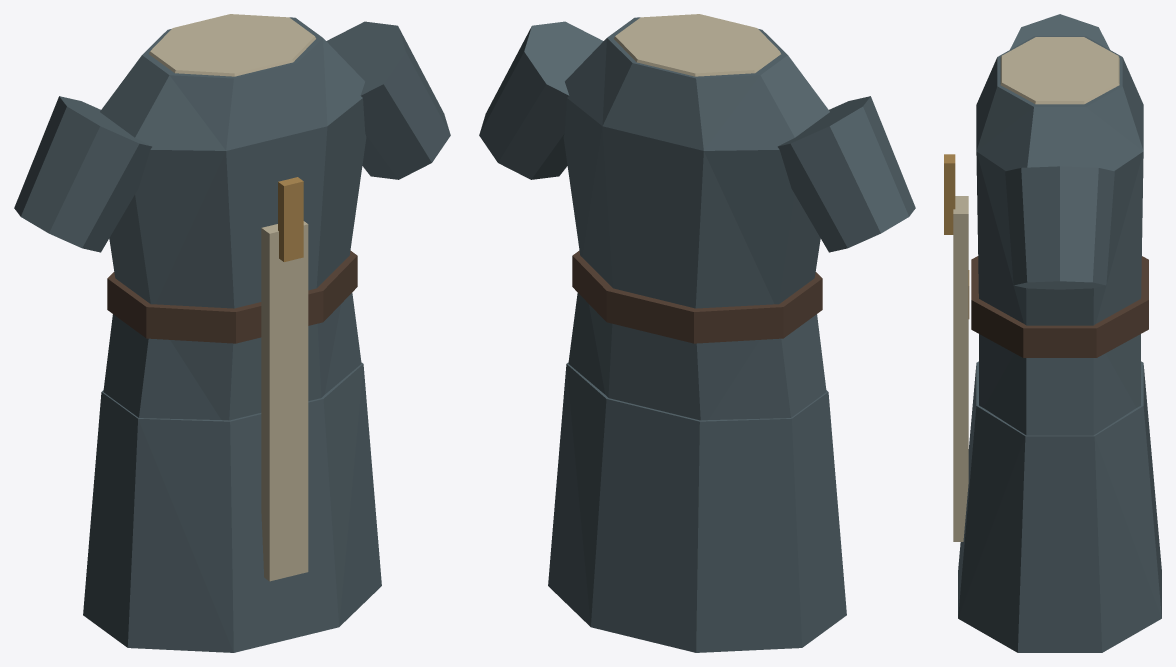
File: NPC_Torso_03_Robe.glb
The picture shows the model from 3 angles, left to right: view 1: azimuth 30°, elevation 25°; view 2: azimuth 150°, elevation 25°; view 3: azimuth 270°, elevation 25°; orthographic projection. The views are drawn at different scales.
Visible parts, largest first — view 1: NPC_Torso_03_Robe; view 2: NPC_Torso_03_Robe; view 3: NPC_Torso_03_Robe.
Part boxes in pixels (box(x1,y1,x2,y2)): NPC_Torso_03_Robe: box(14, 14, 450, 652); NPC_Torso_03_Robe: box(479, 14, 915, 652); NPC_Torso_03_Robe: box(944, 14, 1161, 652).
Bounding box in the file's own units: 0.8157 × 1.03 × 0.3852.
